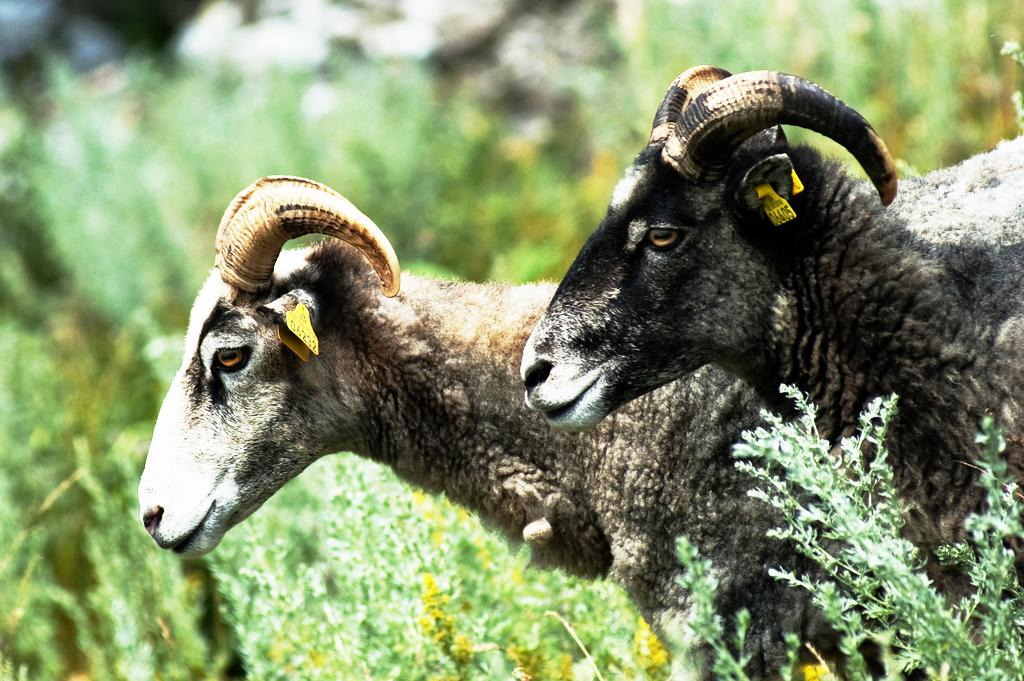Sheep: (131, 163, 890, 582), (511, 62, 1024, 681)
